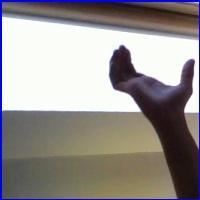space: (98, 39, 195, 120)
